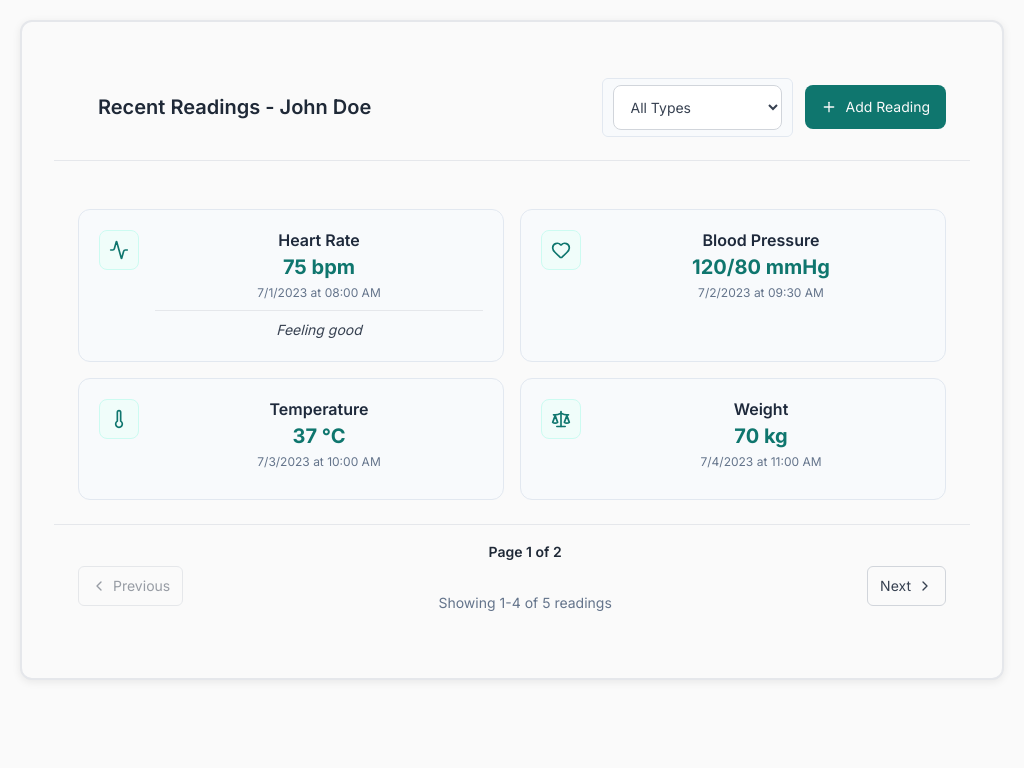
Test: ReadingsCard › shows message when there are no readings for selected filter
Select "Oxygen Saturation" in the dropdown at point(698, 107), box [614,84,782,130]
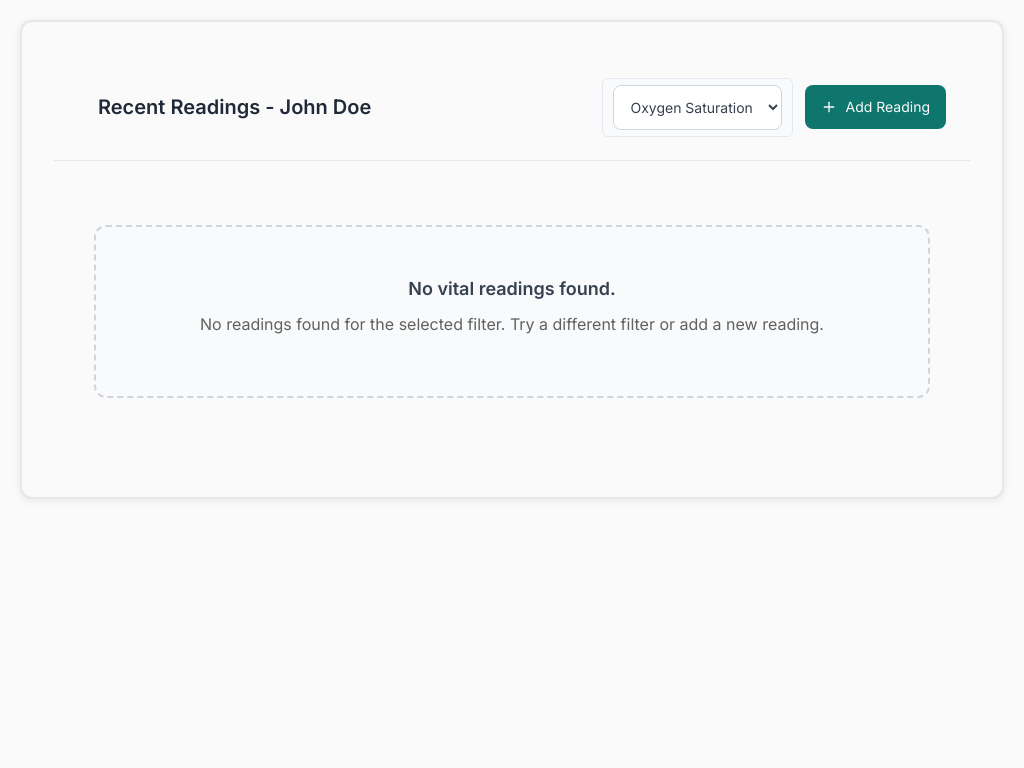
Check: the text "No readings found for the selected filter" is shown, box [200,314,824,334]
